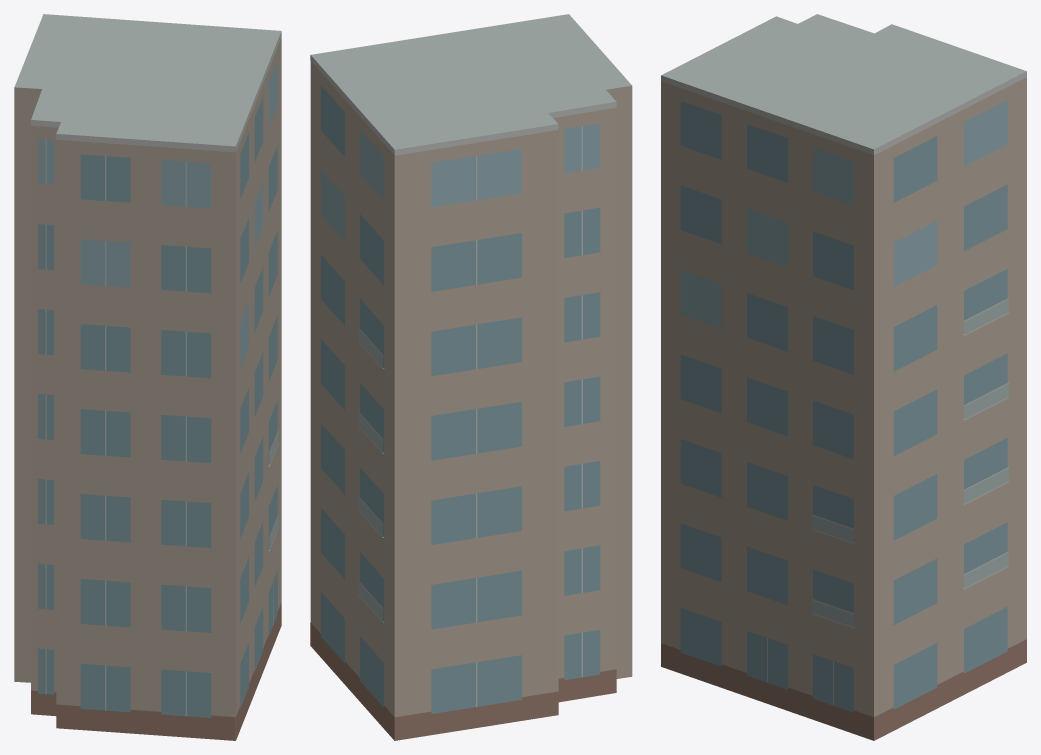
Rendered from survey-upis-33024878.glb.
3 views of the same model, side by side, from view 1: azimuth 30°, elevation 25°; view 2: azimuth 150°, elevation 25°; view 3: azimuth 270°, elevation 25° (orthographic).
Visible parts, largest first — view 1: survey-upis-33024878.tmp; view 2: survey-upis-33024878.tmp; view 3: survey-upis-33024878.tmp.
Part boxes in pixels (<box>): survey-upis-33024878.tmp: <box>14,14,281,740</box>; survey-upis-33024878.tmp: <box>310,14,632,740</box>; survey-upis-33024878.tmp: <box>661,14,1026,740</box>.
Size of the model in its own units: 12.05 by 24.5 by 13.74.
